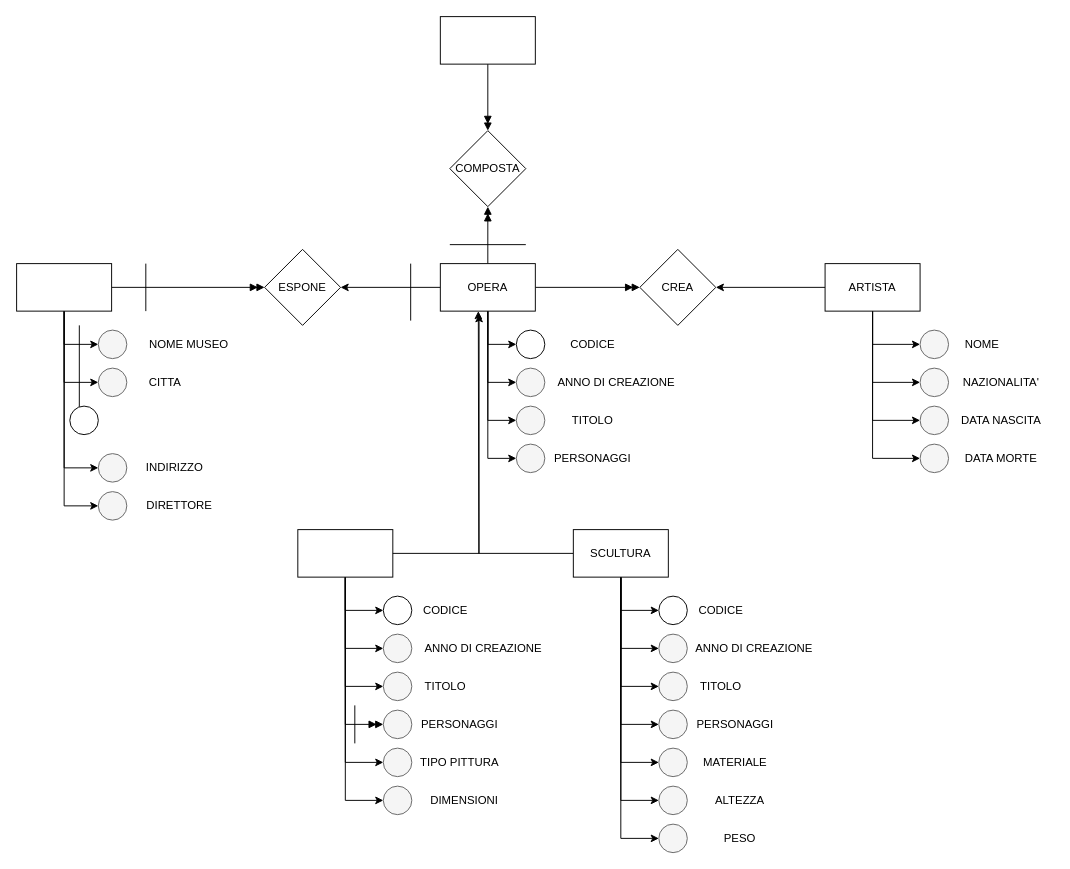
Some shapes in this 1070 by 869 pixel diagram are drawn without their labels. Each missing label, with the centre of its shape:
DIPINTO: pixel 345 553
MUSEO: pixel 64 287
PERSONAGGIO: pixel 487 40
